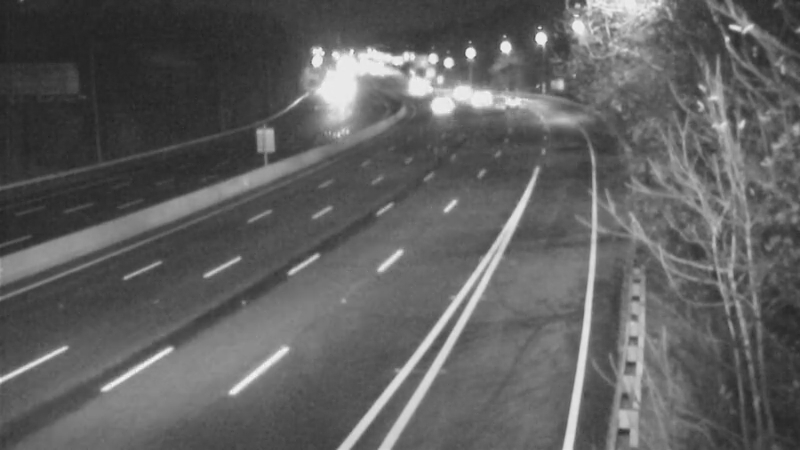vehicle: (455, 74, 505, 124), (417, 78, 467, 128), (490, 80, 540, 130)
